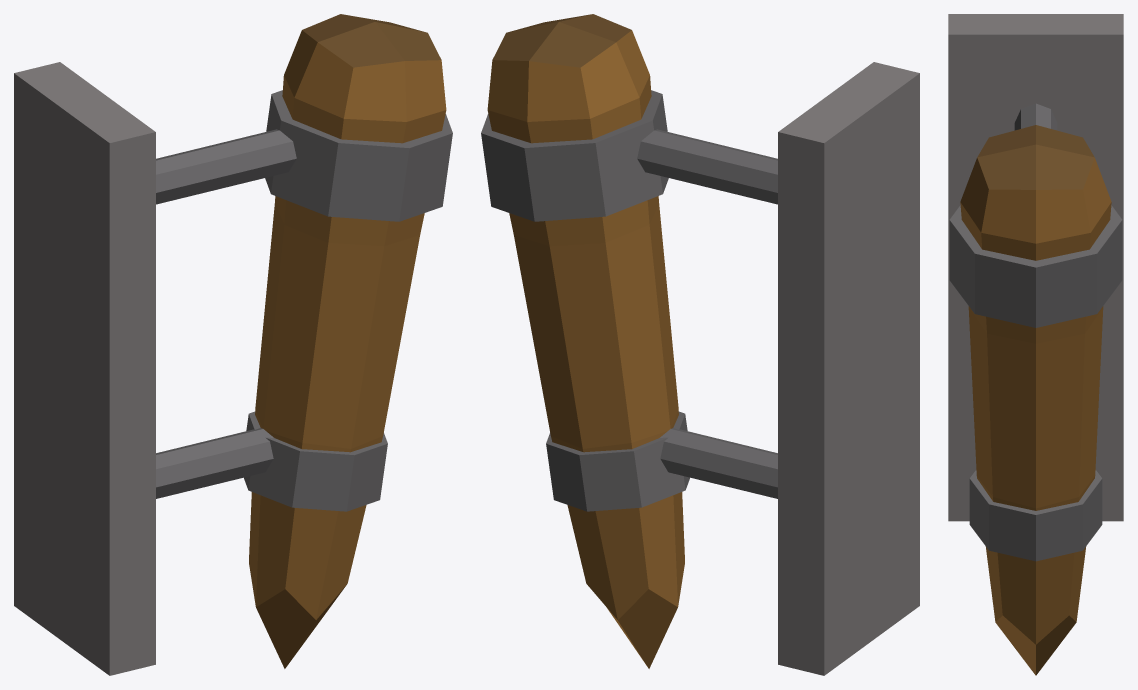
The model's file is TORCHE ET SON SOCLE.fbx.
3 views of the same model, side by side, from view 1: azimuth 30°, elevation 25°; view 2: azimuth 150°, elevation 25°; view 3: azimuth 270°, elevation 25° (orthographic). The views are drawn at different scales.
Visible parts, largest first — view 1: socle, torche; view 2: socle, torche; view 3: torche, socle.
Part boxes in pixels (<box>): socle: <box>14,62,296,675</box>; torche: <box>244,14,452,668</box>; socle: <box>637,62,919,675</box>; torche: <box>481,14,689,668</box>; torche: <box>949,125,1122,675</box>; socle: <box>948,14,1123,521</box>.
Size of the model in its own units: 59.21 by 92.8 by 25.75.
